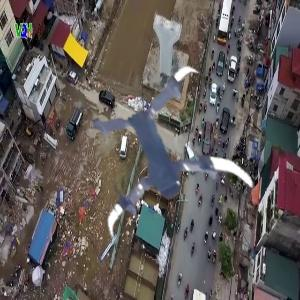drone: (77, 81, 253, 257)
